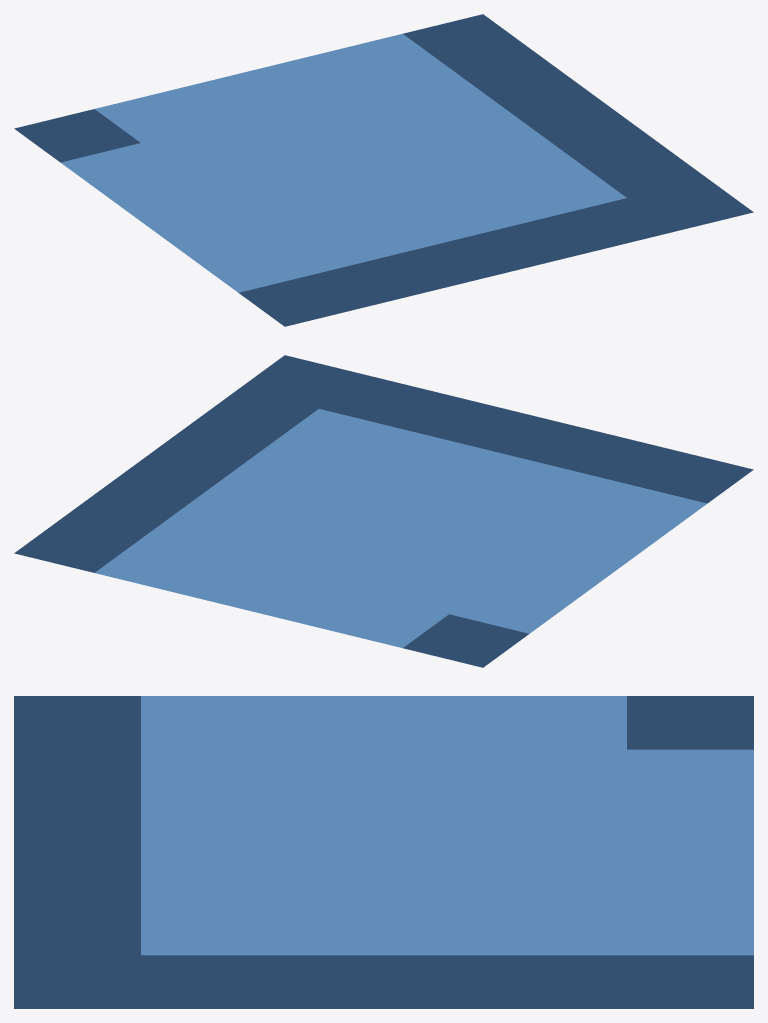
File: M_FloorCrossT700x700Blue100-3_1.fbx
The picture shows the model from 3 angles, top to bottom: view 1: azimuth 30°, elevation 25°; view 2: azimuth 150°, elevation 25°; view 3: azimuth 270°, elevation 25°; orthographic projection. The views are drawn at different scales.
Parts seen in each view (by area): view 1: M_FloorCrossT700x700Blue100-3_1; view 2: M_FloorCrossT700x700Blue100-3_1; view 3: M_FloorCrossT700x700Blue100-3_1.
Boxes of the visible parts, x1,y1,x2,y2 form: M_FloorCrossT700x700Blue100-3_1: [14, 14, 753, 326]; M_FloorCrossT700x700Blue100-3_1: [14, 355, 753, 667]; M_FloorCrossT700x700Blue100-3_1: [14, 696, 753, 1008].
Bounding box in the file's own units: 700 × 700 × 6.53e-22.
